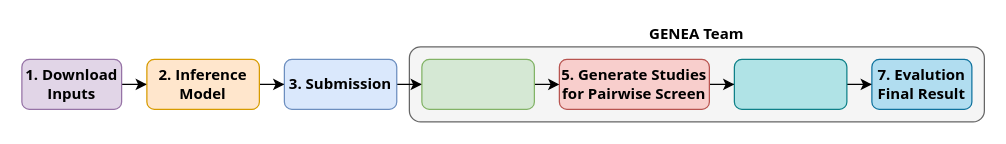
Some shapes in this 1006 by 144 pixel diagram are drawn without their labels. Each missing label, with the centre of its shape:
"4. Convert & Split to Video" goes at (x=477, y=83).
"6. Start User Study Prolific" goes at (x=790, y=83).
